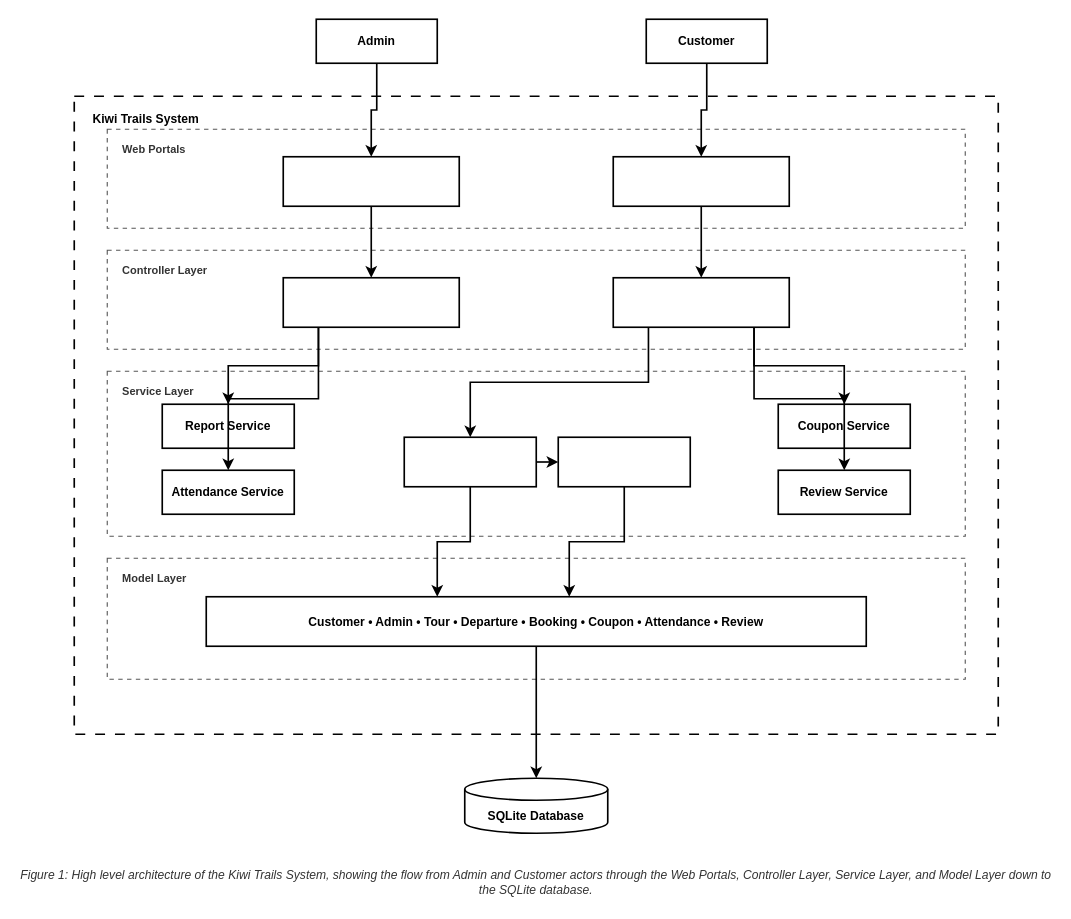
Some shapes in this 1071 by 919 pixel diagram are drawn without their labels. The shapes that lost their labels are listed below. From the top down, each one's centre as x and y in pixels, then its label:
pixel 371 181: Admin Portal React :3000
pixel 701 181: Customer Portal React :3000
pixel 371 302: Admin Controllers
pixel 701 302: Customer Controllers
pixel 470 461: Booking Engine
pixel 624 461: Tour Service
